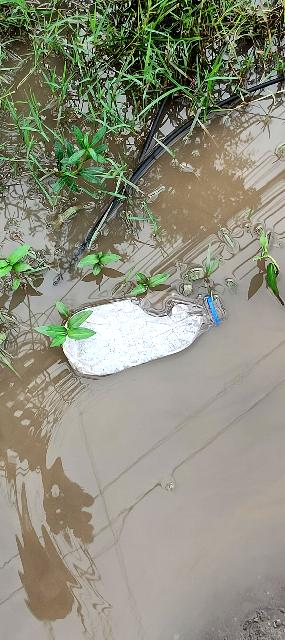bottle: (51, 275, 248, 382)
